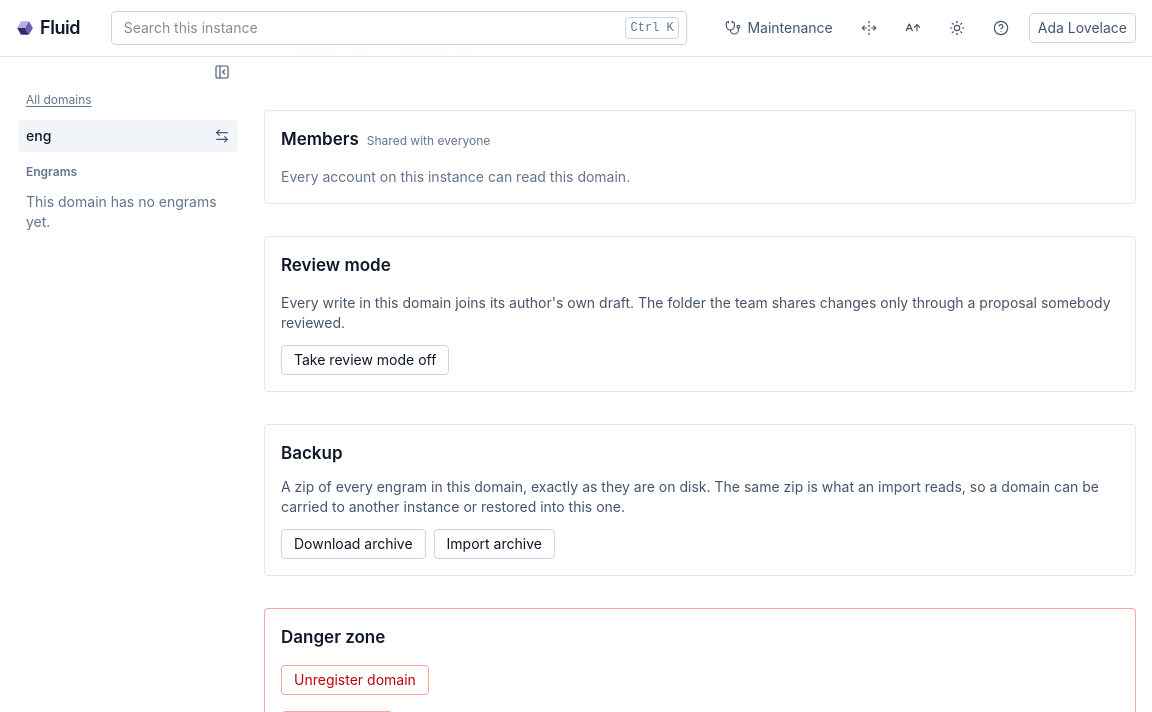
ReviewModeCard › names an actor whose files could not be read
(page scrolled)
Step 1. Click the button "Take review mode off" → x=365, y=360, box [281,345,449,375]
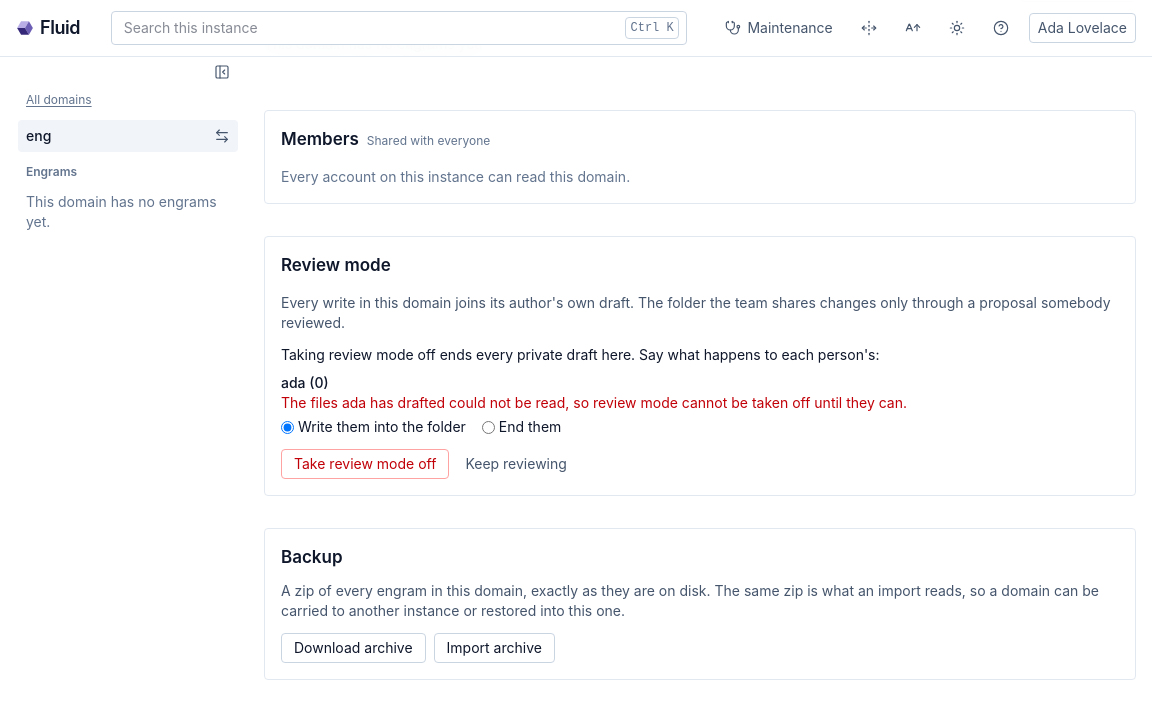
Check: the text "The files ada has drafted could not be read" is shown, box [281,394,907,411]
Check: the text "review mode cannot be taken off until they can" is shown, box [366,394,907,411]
